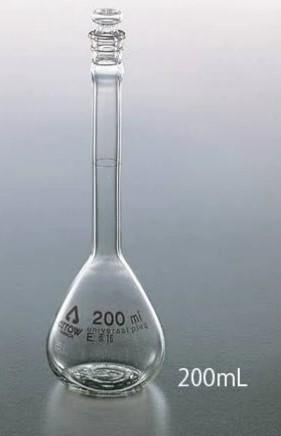Volumetric flask: (46, 10, 166, 394)
